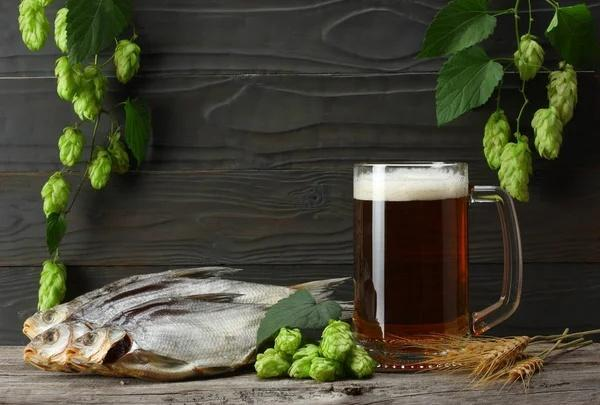glass-mug: (346, 156, 524, 375)
